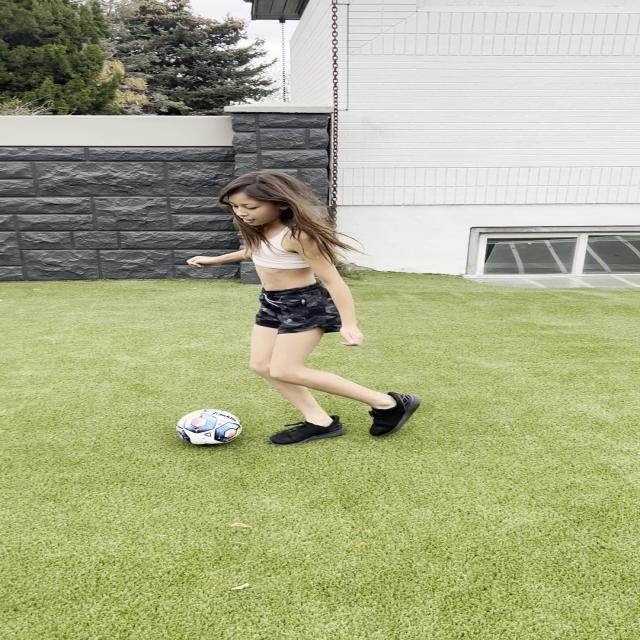Soccer Ball: (176, 408, 242, 446)
